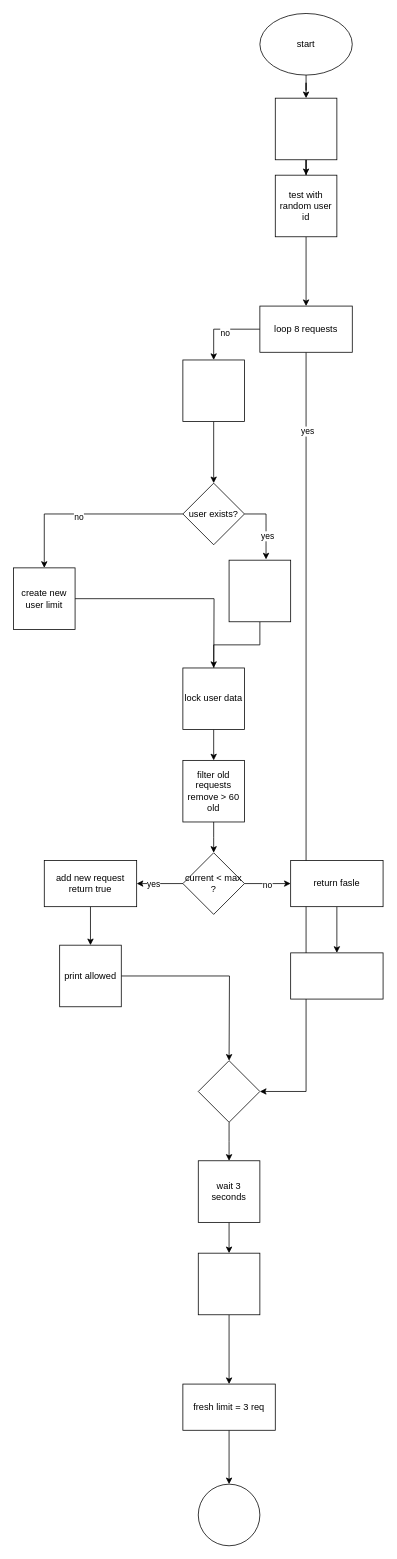
Some shapes in this 397 by 1559 pixel diagram are drawn without their labels. Here are the shapes that lost their labels. From the top down, the centre of each, then its label:
pixel 306 128: create limiter for 5 req per seconf
pixel 213 390: limiter.AllowUser_Id
pixel 259 590: get user limit
pixel 336 975: print blocked
pixel 229 1091: more requests ?
pixel 229 1283: testUser: user_id
pixel 229 1514: end
